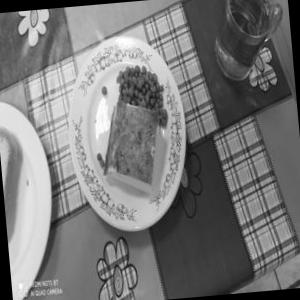casserole: (81, 64, 178, 193)
tea: (194, 0, 286, 79)
